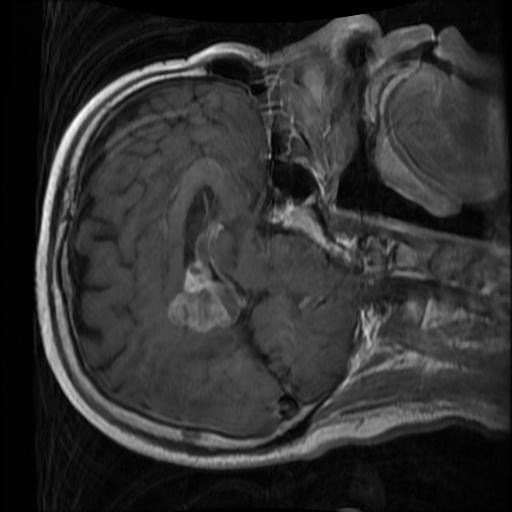glioma: (166, 260, 240, 333)
